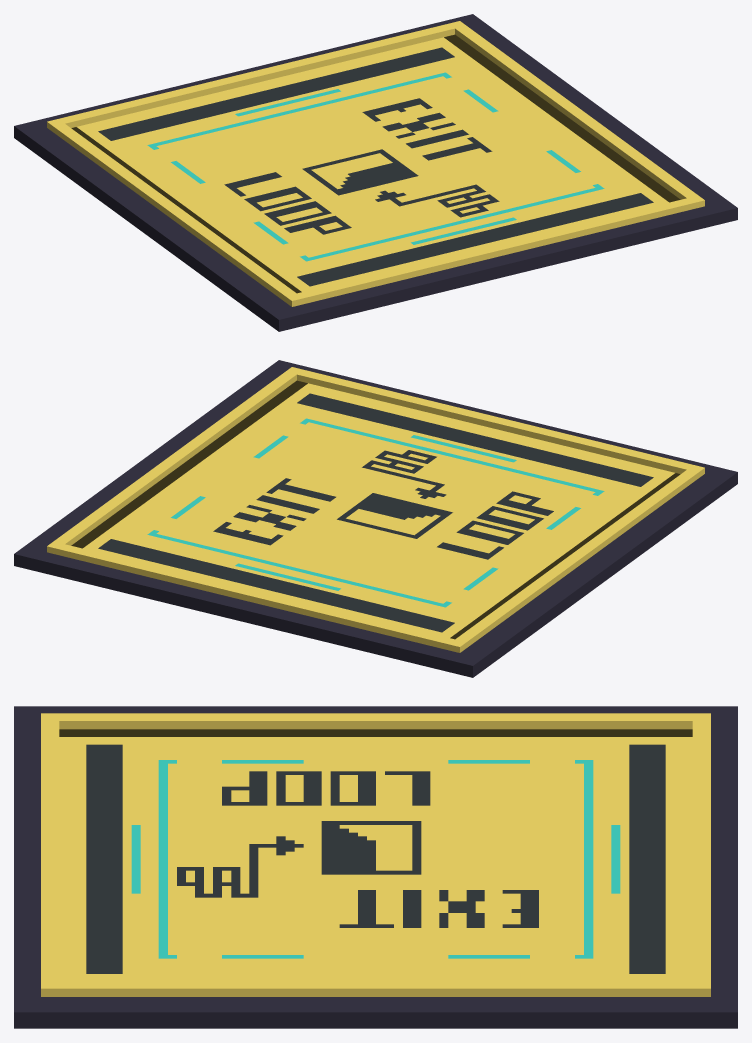
Rendered from exit.obj.
3 renders of one model, top to bottom at view 1: azimuth 30°, elevation 25°; view 2: azimuth 150°, elevation 25°; view 3: azimuth 270°, elevation 25°, orthographic. The views are drawn at different scales.
Bounding box in the file's own units: 8 × 0.3 × 8.
Materials: 1 (1 with a texture image).
